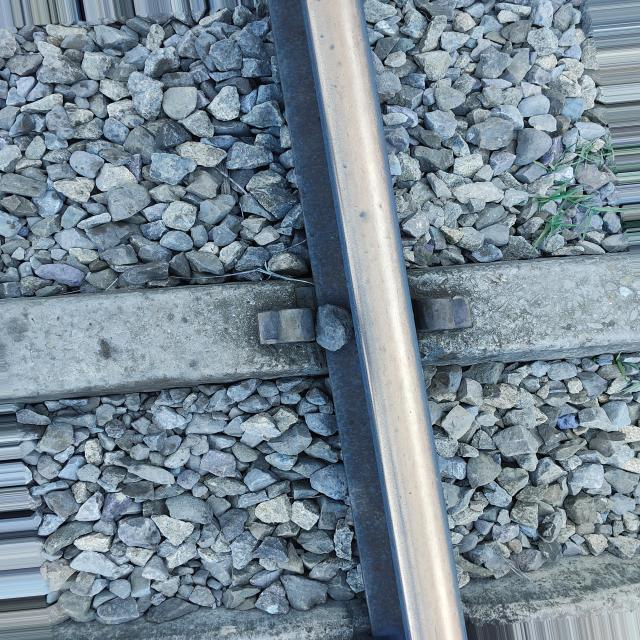Missing Fastener: (214, 253, 335, 386), (403, 263, 512, 404)
